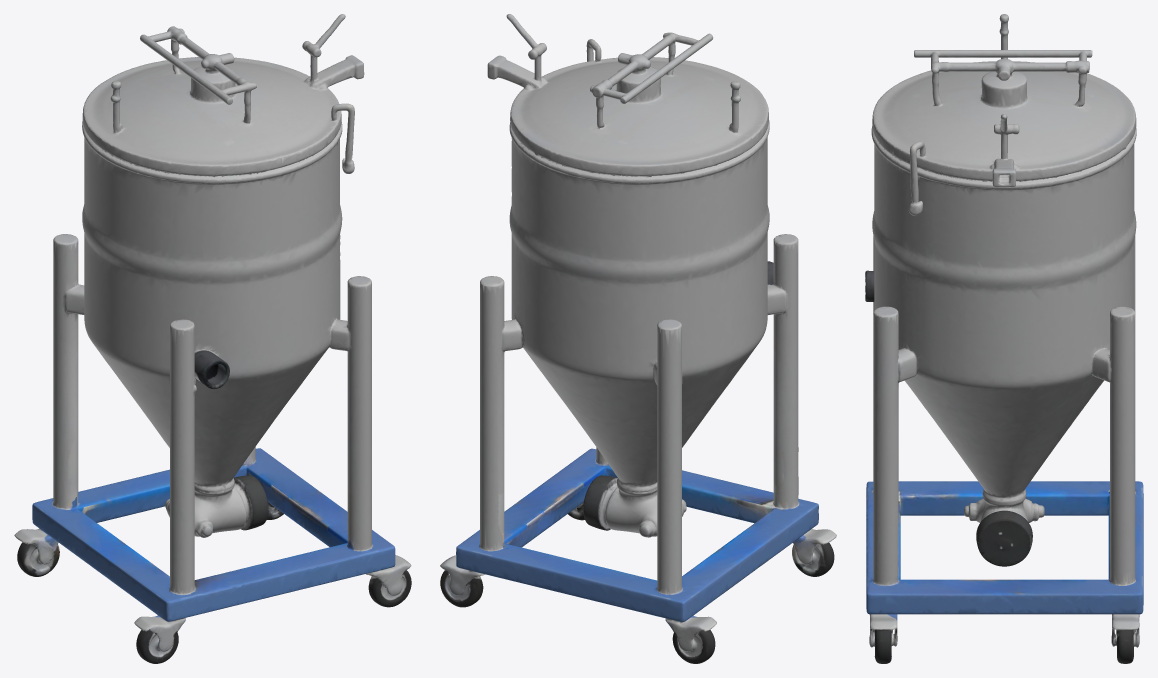
File: extractor-opt.glb
The picture shows the model from 3 angles, left to right: view 1: azimuth 30°, elevation 25°; view 2: azimuth 150°, elevation 25°; view 3: azimuth 270°, elevation 25°; orthographic projection.
Parts seen in each view (by area): view 1: tripo_node_58bbf299-54d8-457b-9d15-07eac4aa5b25; view 2: tripo_node_58bbf299-54d8-457b-9d15-07eac4aa5b25; view 3: tripo_node_58bbf299-54d8-457b-9d15-07eac4aa5b25.
Boxes of the visible parts, left/top/right/bottom form: tripo_node_58bbf299-54d8-457b-9d15-07eac4aa5b25: left=14, top=14, right=411, bottom=663; tripo_node_58bbf299-54d8-457b-9d15-07eac4aa5b25: left=440, top=14, right=836, bottom=663; tripo_node_58bbf299-54d8-457b-9d15-07eac4aa5b25: left=865, top=14, right=1143, bottom=663.
Size of the model in its own units: 0.539 by 0.9999 by 0.4556.
Materials: 1 (1 with a texture image).
